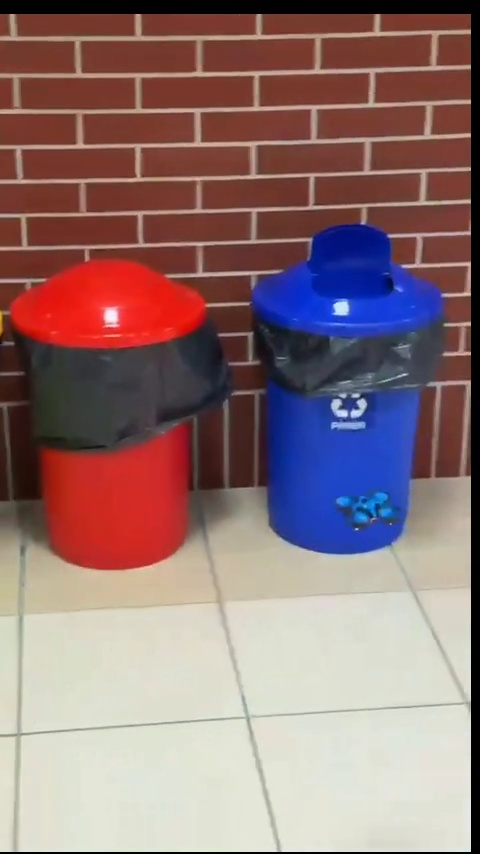drone: (335, 494, 395, 529)
